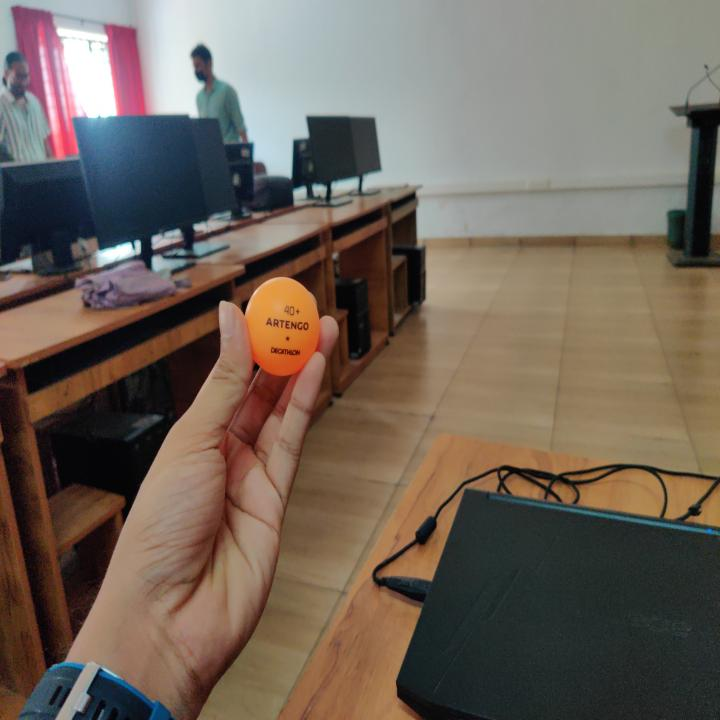orange: (242, 276, 319, 376)
